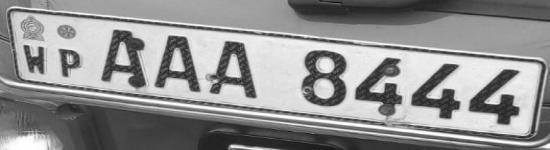4: (467, 66, 527, 129), (409, 57, 465, 122), (351, 53, 405, 109)
8: (299, 49, 350, 108)
A: (207, 38, 260, 101), (94, 28, 149, 87), (153, 34, 204, 92)
P: (54, 46, 86, 80)
W: (19, 41, 52, 76)
